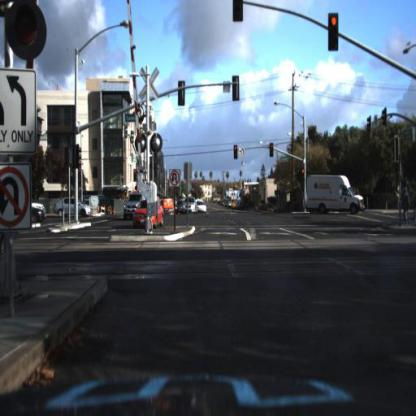biker: (397, 185, 409, 227)
car: (56, 193, 93, 222), (131, 201, 166, 231), (122, 192, 144, 213), (122, 193, 138, 219), (180, 200, 197, 217), (198, 200, 210, 216), (32, 198, 46, 208), (35, 209, 47, 220)
pedestrian: (400, 173, 412, 233), (411, 184, 416, 219)
trafficLight: (233, 1, 243, 25), (234, 141, 239, 162)
trafficLight-Red: (330, 12, 340, 49), (269, 141, 276, 157), (300, 161, 306, 179), (302, 165, 307, 177)
truck: (305, 173, 363, 217)
